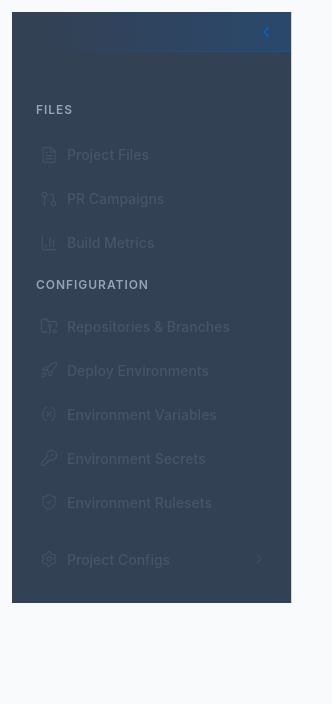
Test: Sidebar › Project Configs group expands and collapses on click
Expected: the button "Project Info" is not shown
Click the button "Project Configs".
click(152, 559)  # box [12, 539, 291, 579]
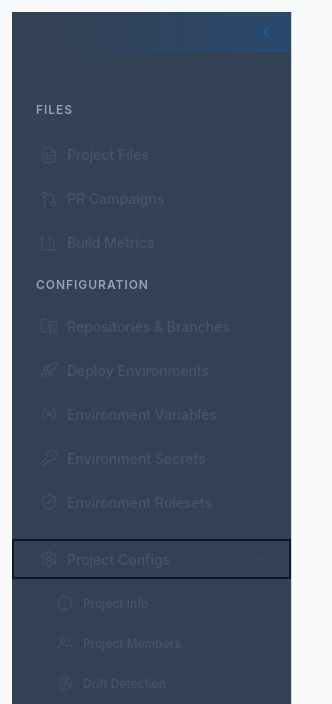
Expected: the button "Project Info" is shown, [12, 583, 291, 623]
Note: Collapse again
Click the button "Project Configs".
click(152, 559)  # box [12, 539, 291, 579]
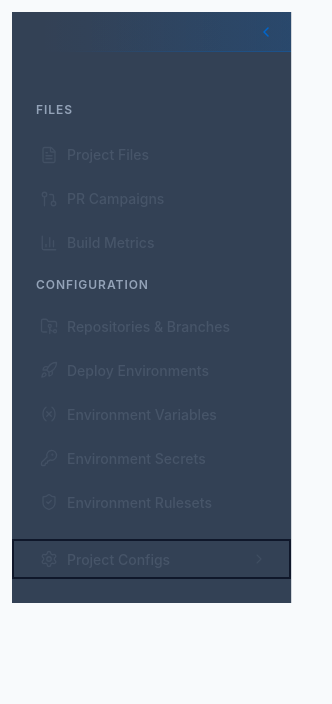
Expected: the button "Project Info" is gone
